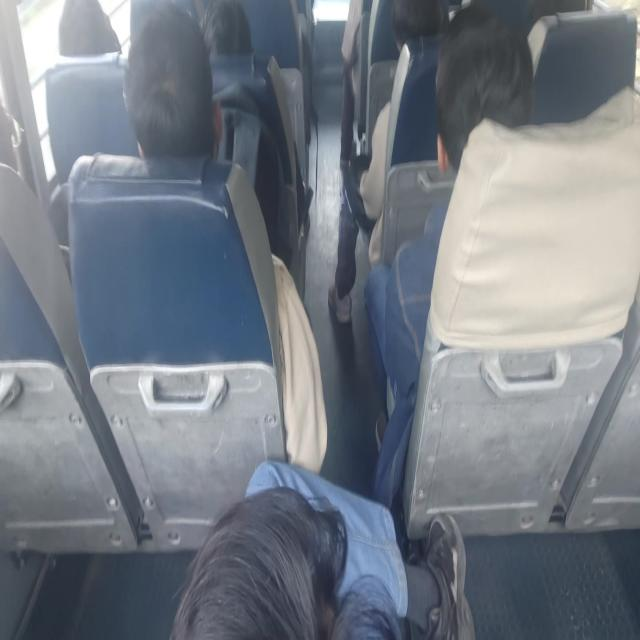person: (177, 488, 400, 640), (437, 13, 534, 180), (125, 23, 215, 150), (193, 0, 249, 69), (394, 0, 456, 59), (56, 0, 118, 58), (0, 89, 28, 178)
